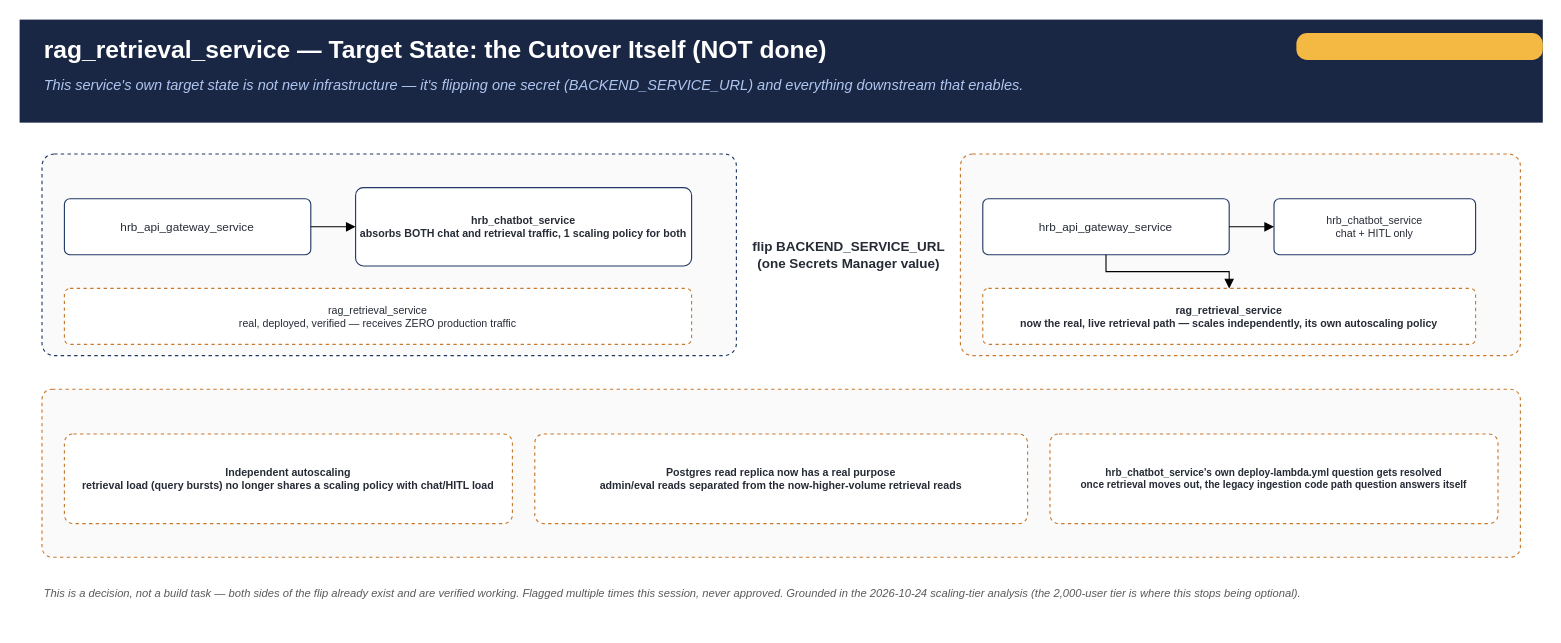
This 1561x643 diagram has some shape labels left out. Here are the shapes that lost their labels. From the top down, the box of each, then its label:
(1296, 32, 1542, 59): VIEW · target state, NOT done
(41, 153, 736, 356): Today
(959, 153, 1520, 356): Target
(41, 388, 1520, 557): What the cutover then unlocks
